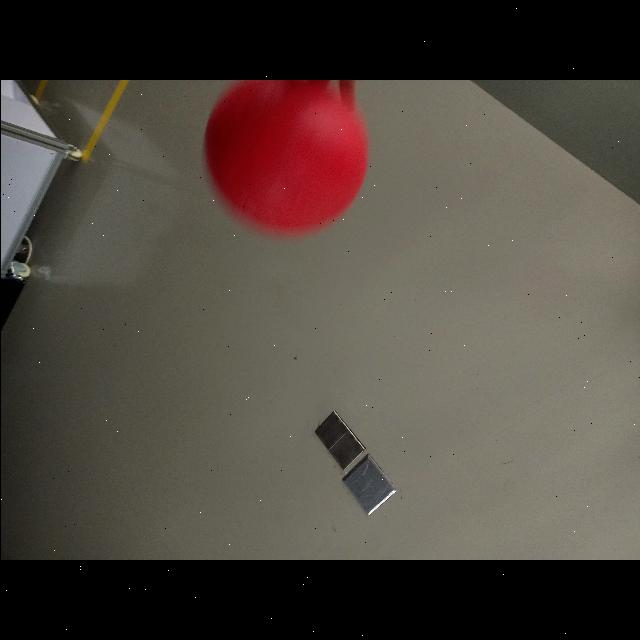R: (199, 80, 369, 232)
